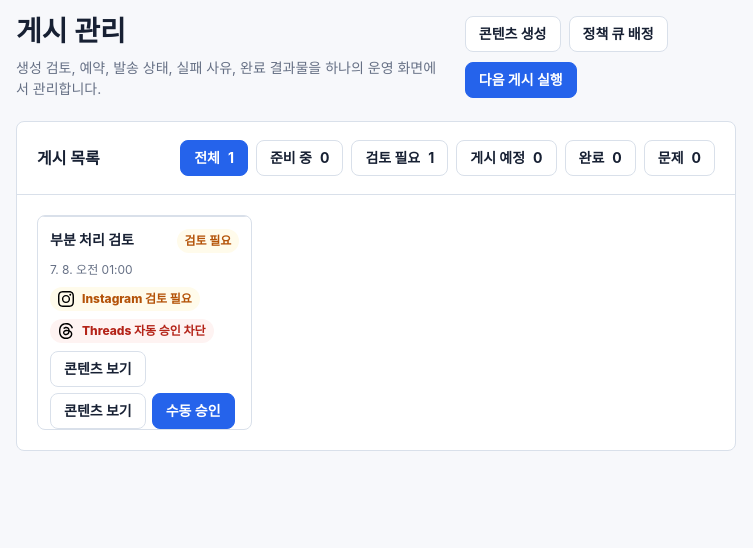
Test: PublishQueuePage › refreshes server state when only part of a grouped review succeeds
Click the button "수동 승인".
click(193, 411)  # box [152,393,234,429]
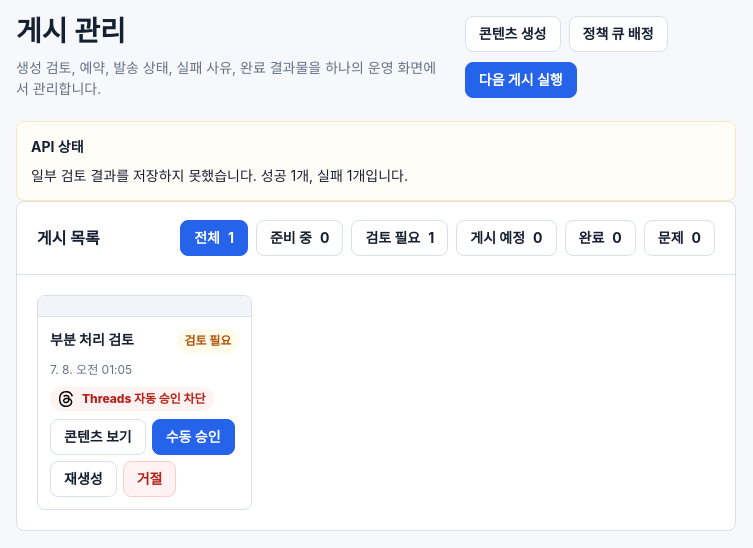
Now the text "일부 검토 결과를 저장하지 못했습니다. 성공 1개, 실패 1개입니다." is shown, box [31,167,408,184]
